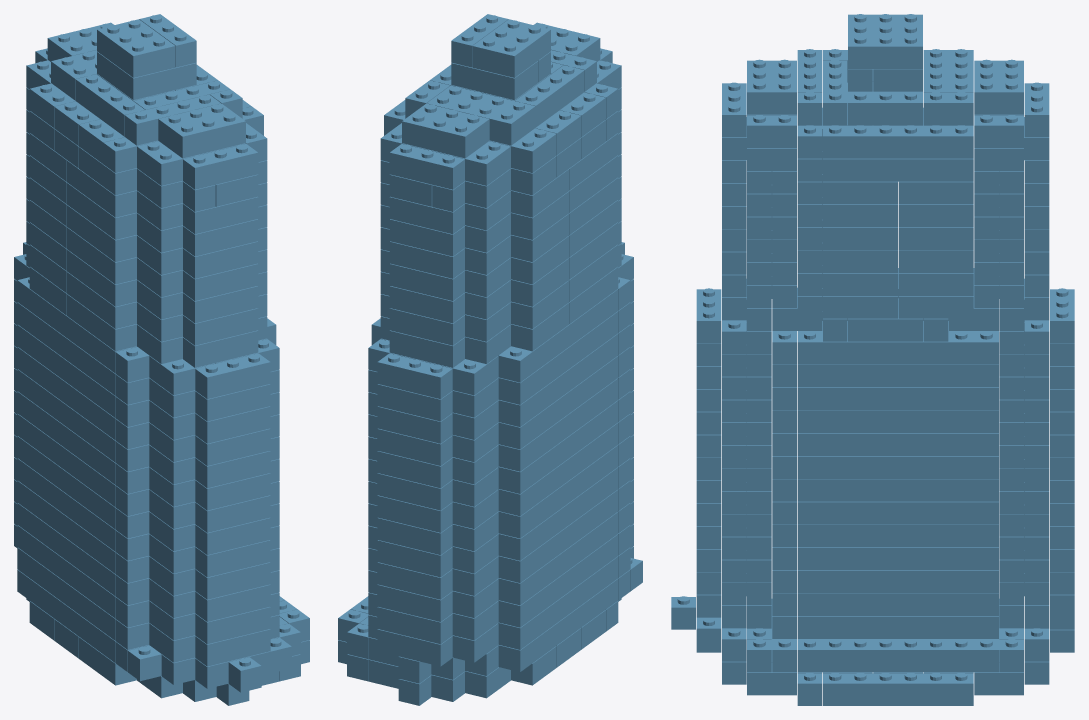
Rendered from 014_basket_L4.glb.
The picture shows the model from 3 angles, left to right: view 1: azimuth 30°, elevation 25°; view 2: azimuth 150°, elevation 25°; view 3: azimuth 270°, elevation 25°; orthographic projection. The views are drawn at different scales.
Size of the model in its own units: 8.98 by 27.13 by 15.98.
